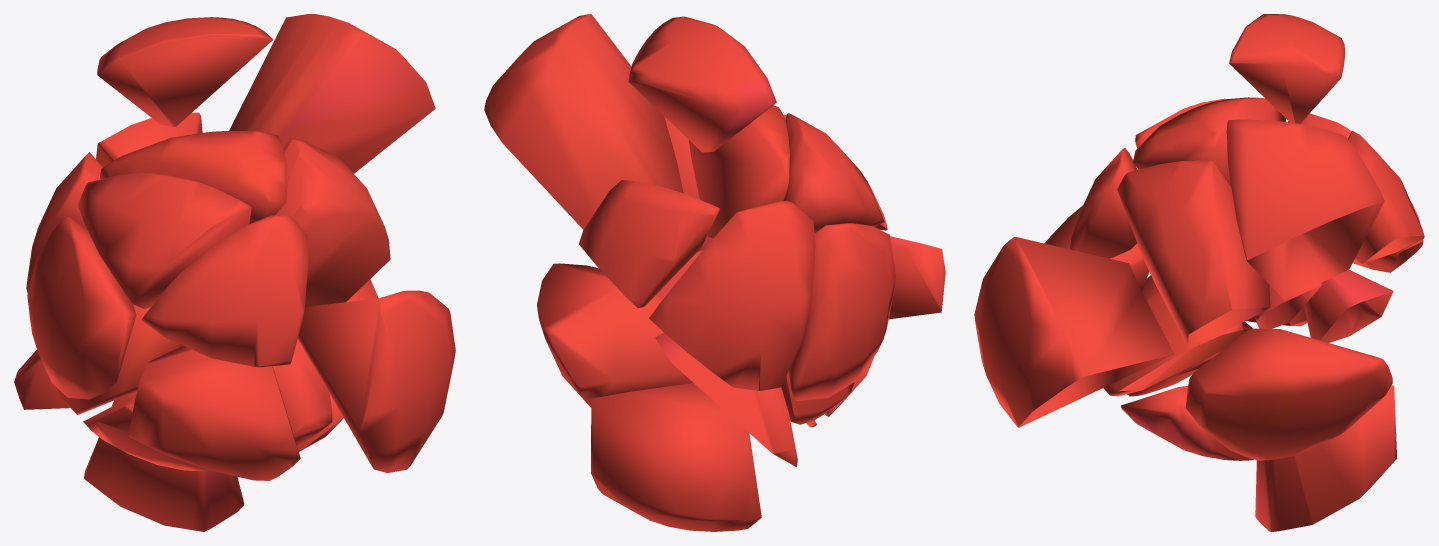
File: abstractball2.glb
The picture shows the model from 3 angles, left to right: view 1: azimuth 30°, elevation 25°; view 2: azimuth 150°, elevation 25°; view 3: azimuth 270°, elevation 25°; orthographic projection. The views are drawn at different scales.
Parts seen in each view (by area): view 1: Voronoi_Fracture.2; view 2: Voronoi_Fracture.2; view 3: Voronoi_Fracture.2.
Boxes of the visible parts, bbox=[...] form: Voronoi_Fracture.2: bbox=[14, 14, 455, 531]; Voronoi_Fracture.2: bbox=[484, 14, 945, 531]; Voronoi_Fracture.2: bbox=[974, 14, 1424, 531].
Size of what is drawn, in the model's own units: 3.46 by 4.3 by 3.57.
Materials: 1 (1 with a texture image).
